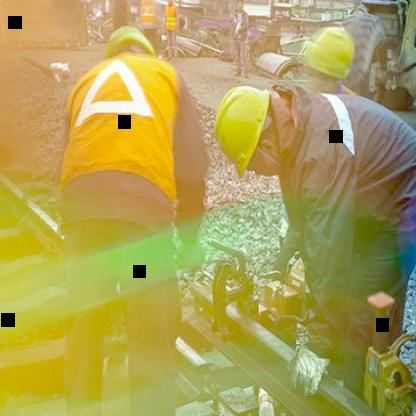helmet: (205, 76, 289, 180), (296, 24, 360, 88), (106, 25, 154, 68), (165, 0, 176, 9)
